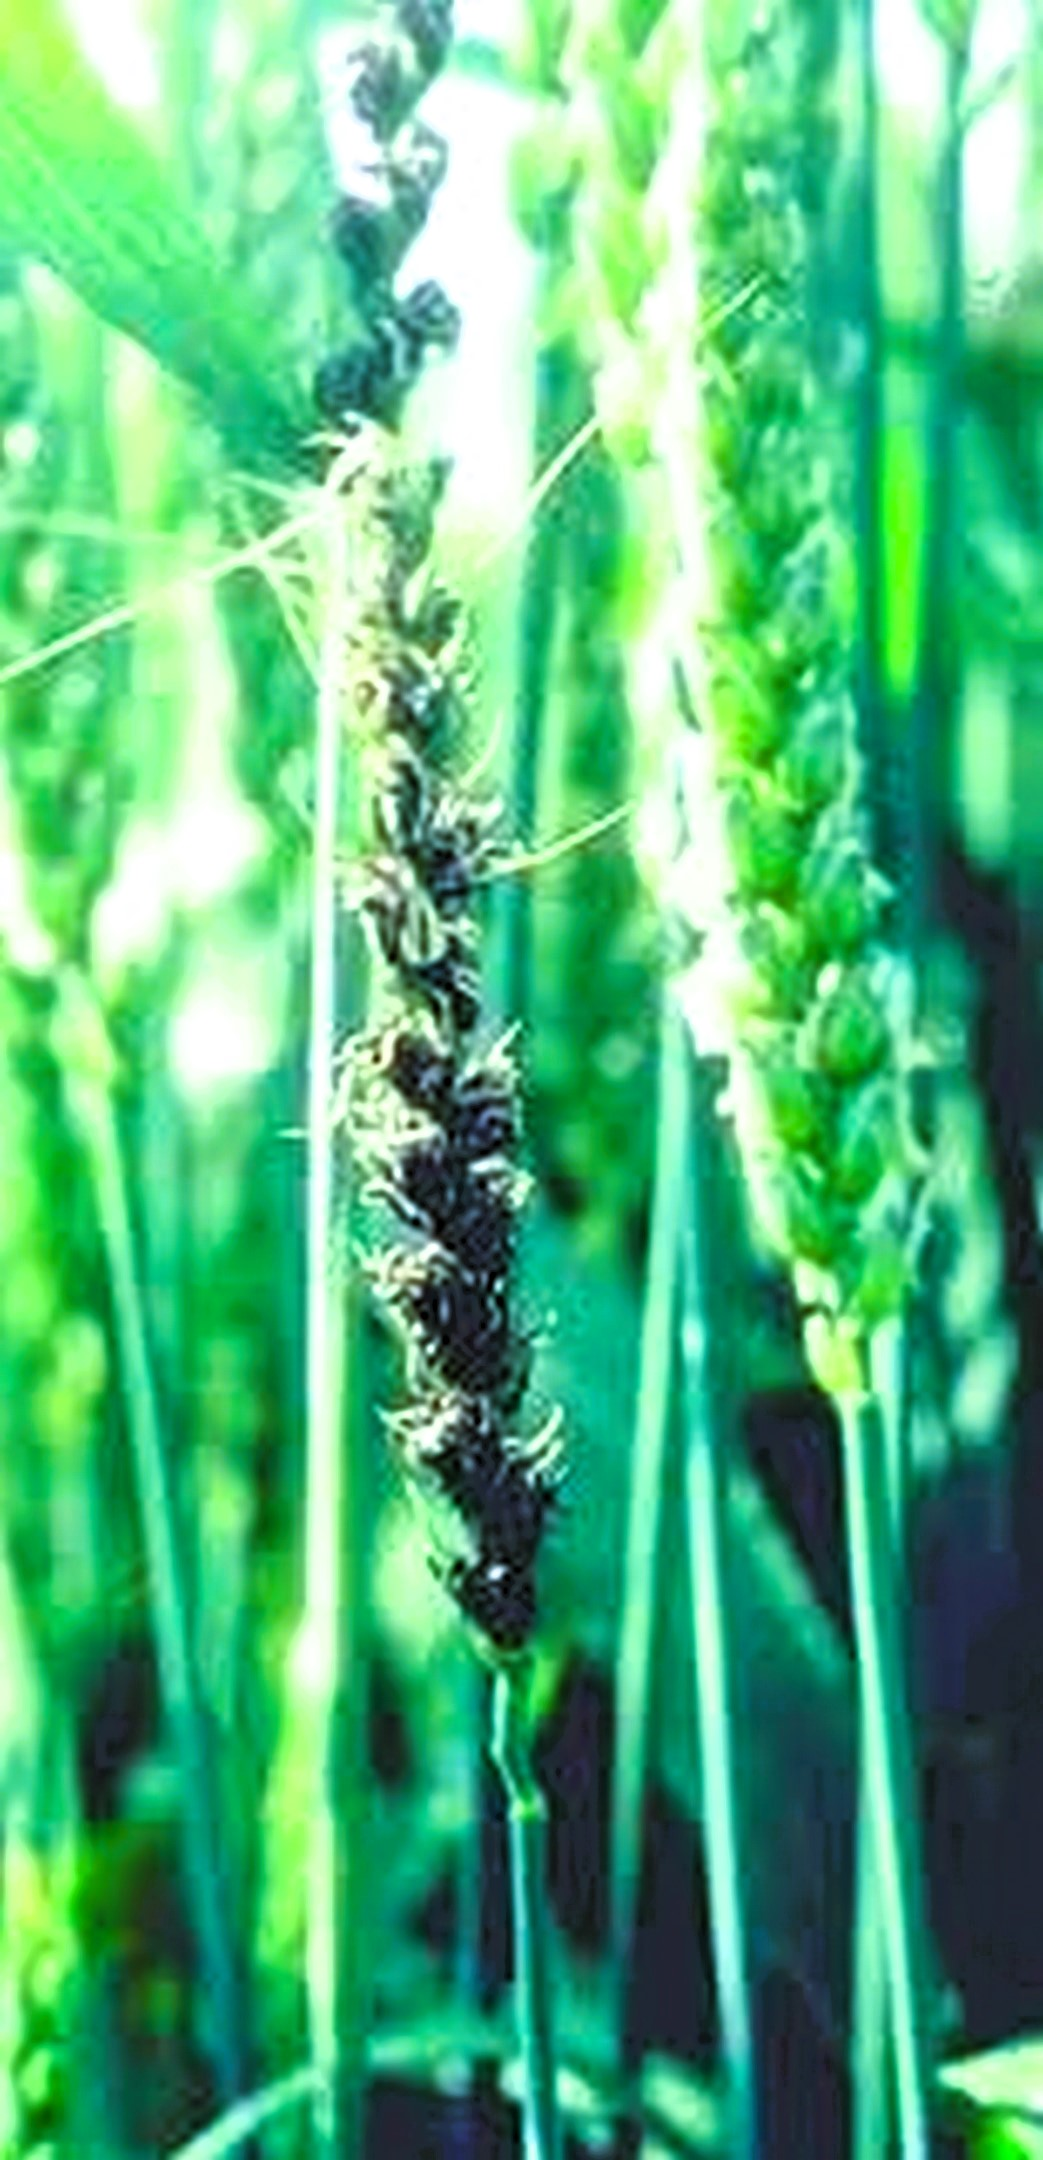Wheat Loose Smut: (249, 470, 603, 1557)
